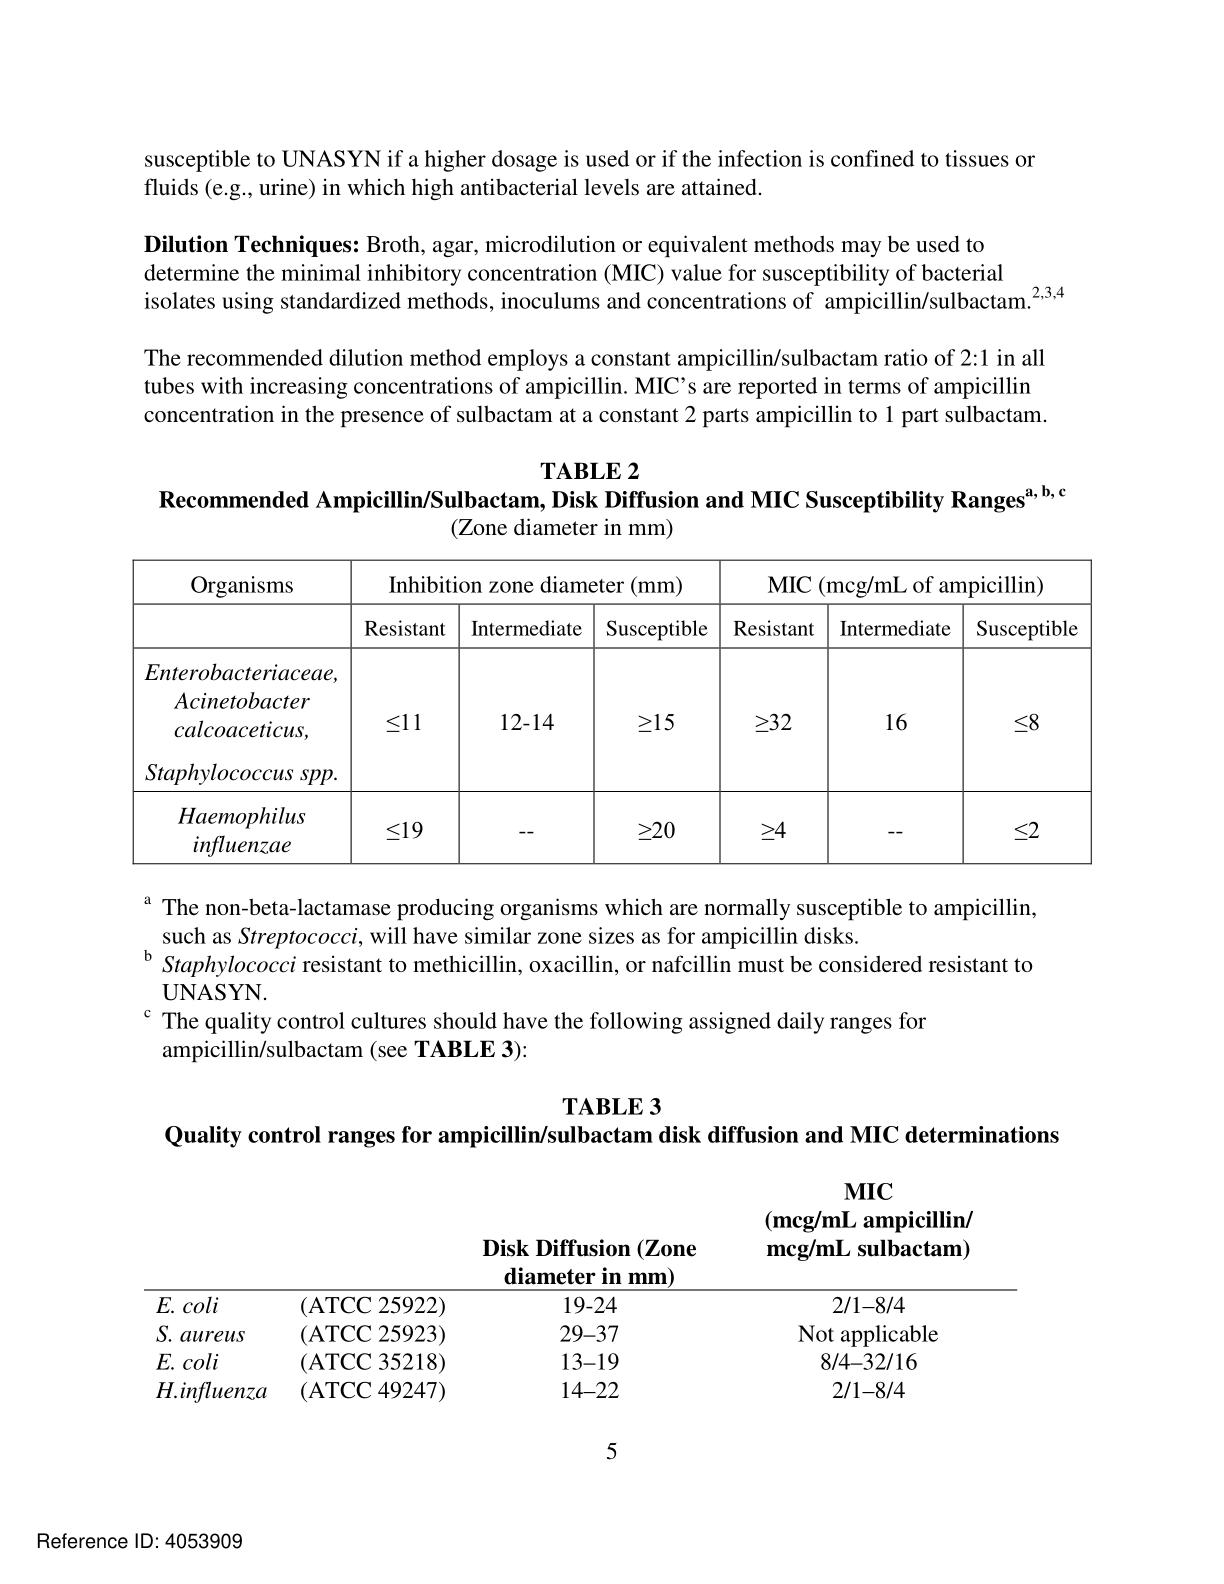merged_cells: (131, 558, 1093, 867)
partial_lined: (145, 1178, 1020, 1401)
